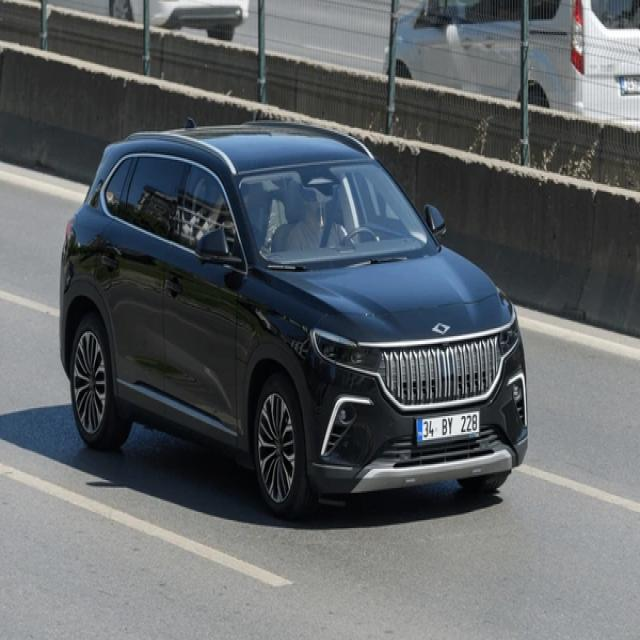togg: (431, 317, 453, 338)
